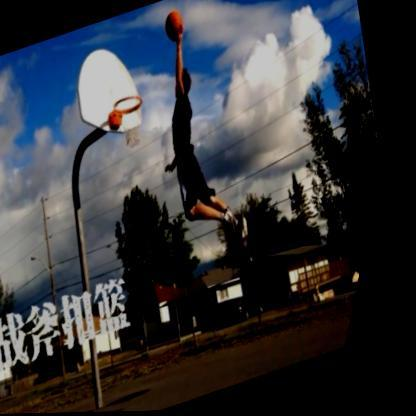basketball: (159, 7, 192, 43)
rim: (110, 93, 163, 152)
